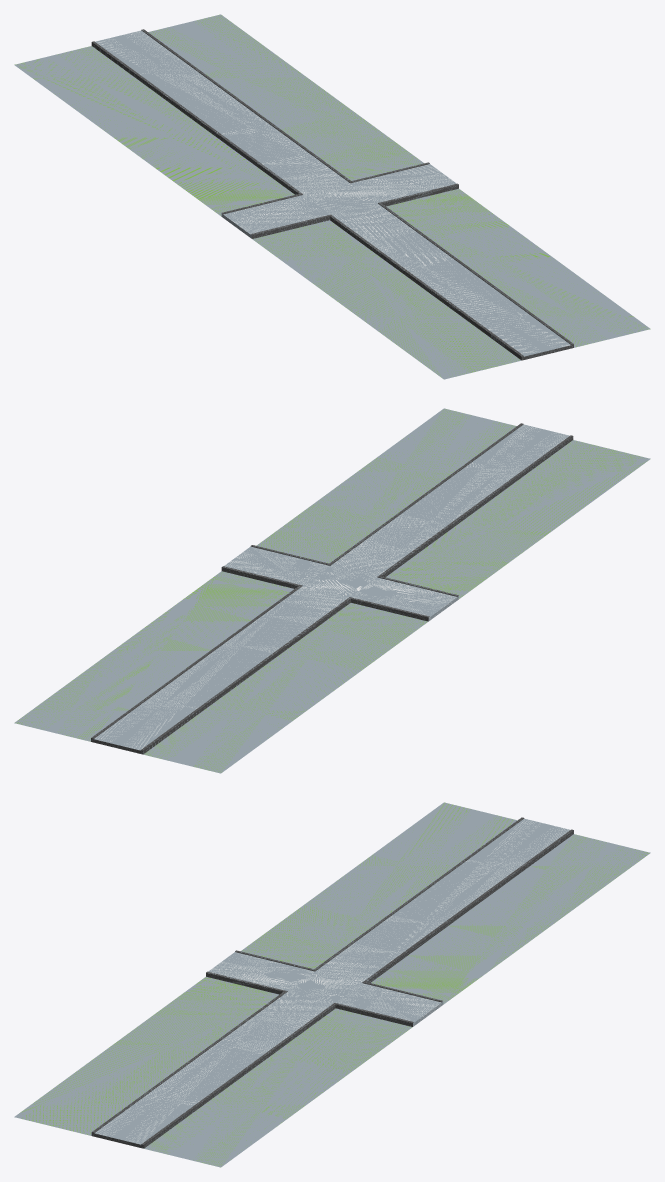
The model's file is road crossing.fbx.
The picture shows the model from 3 angles, top to bottom: view 1: azimuth 30°, elevation 25°; view 2: azimuth 150°, elevation 25°; view 3: azimuth 330°, elevation 25°; orthographic projection.
Parts seen in each view (by area): view 1: Model; view 2: Model; view 3: Model.
Part boxes in pixels (x1,y1,x2,y2): Model: (14, 14, 650, 379); Model: (14, 408, 650, 773); Model: (14, 802, 650, 1167).
Bounding box in the file's own units: 97.96 × 1.81 × 353.
